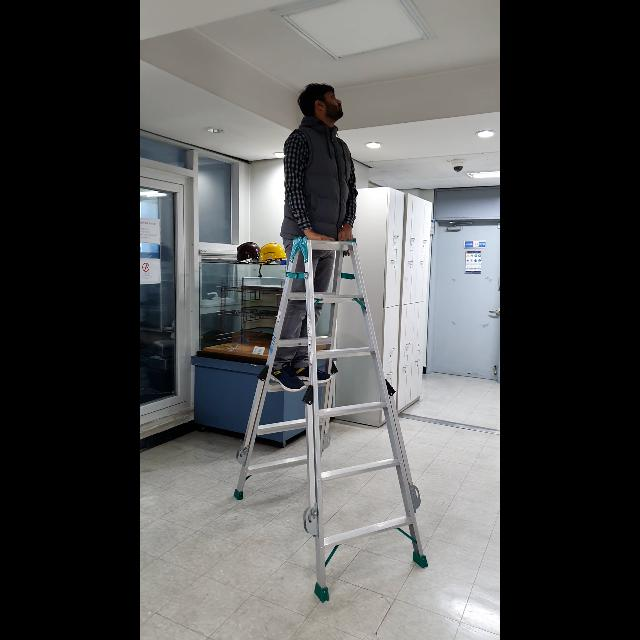hard hat: (225, 232, 432, 602)
vest: (257, 78, 363, 398)
